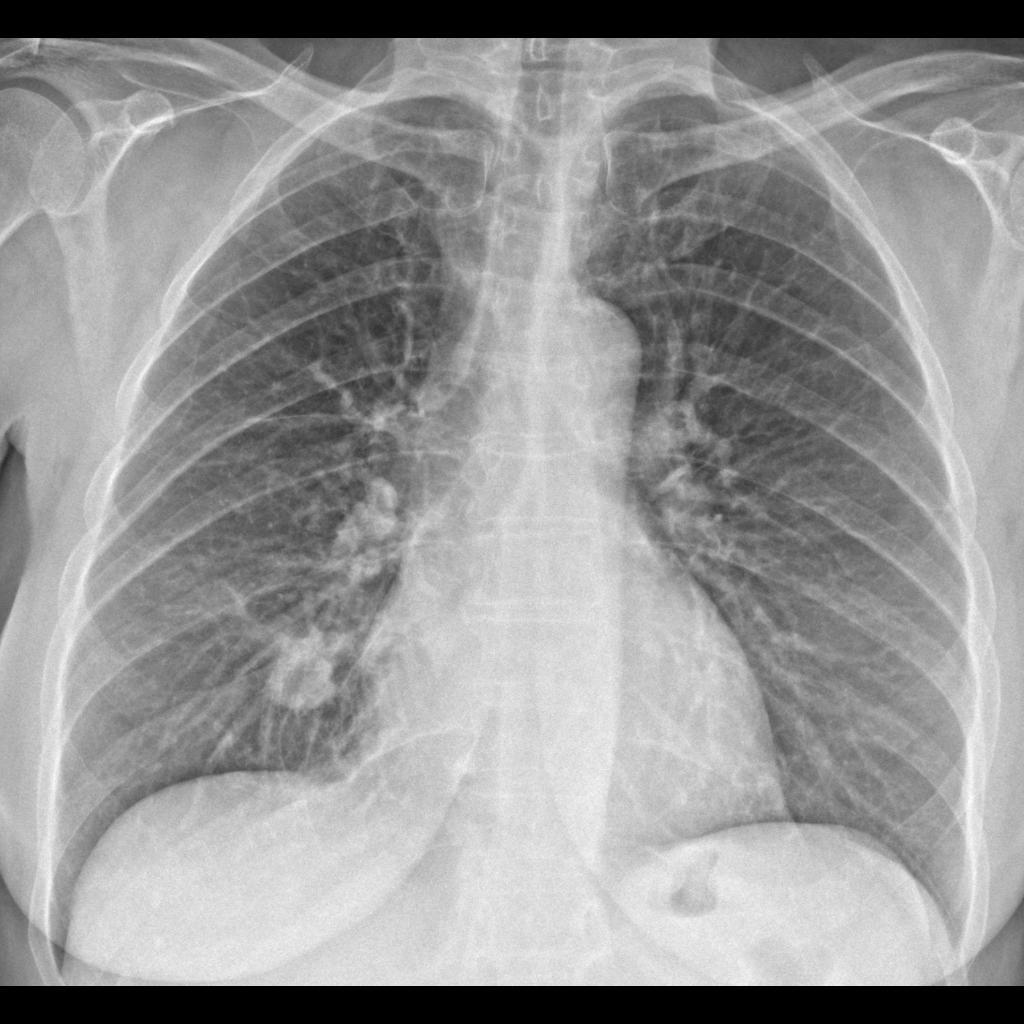Nodule: (256, 624, 345, 728)
